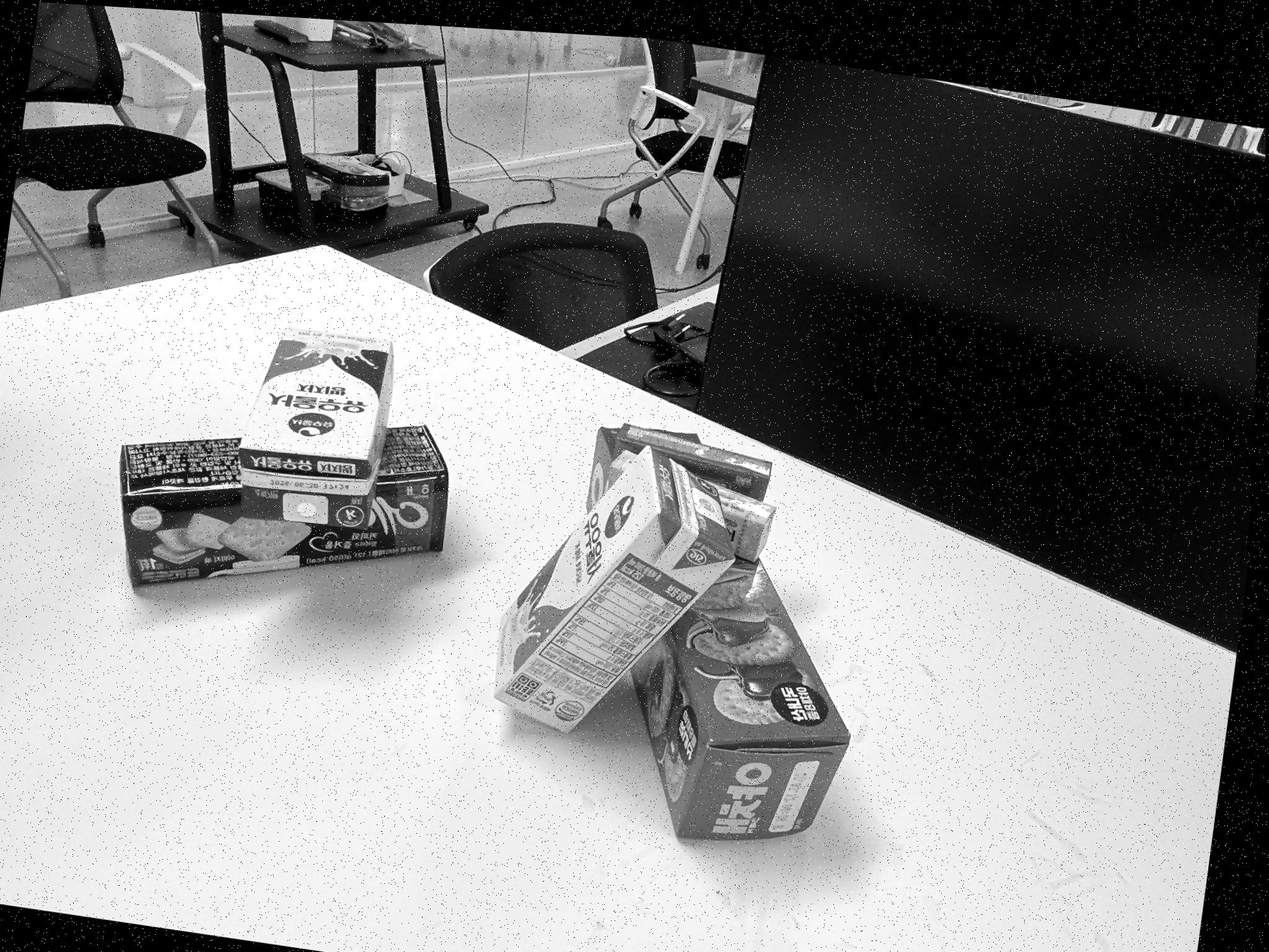cracker_vege: (632, 563, 852, 842)
gum_green: (614, 422, 772, 502)
gum_yellow: (697, 478, 777, 564)
milk_blue: (239, 328, 393, 532)
milk_green: (495, 448, 734, 731)
